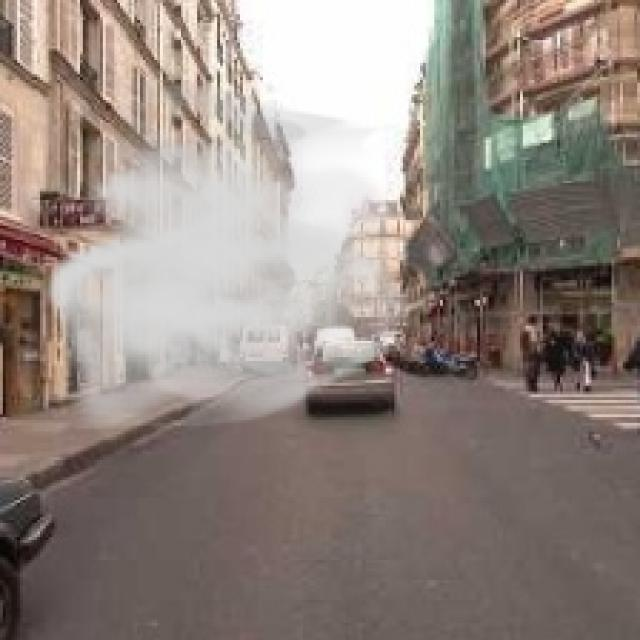smoke: (43, 69, 423, 440)
